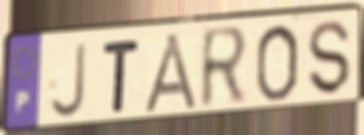A: (140, 31, 203, 116)
J: (48, 40, 88, 121)
O: (253, 22, 301, 104)
R: (198, 22, 252, 114)
S: (307, 19, 353, 98)
T: (101, 37, 142, 115)
